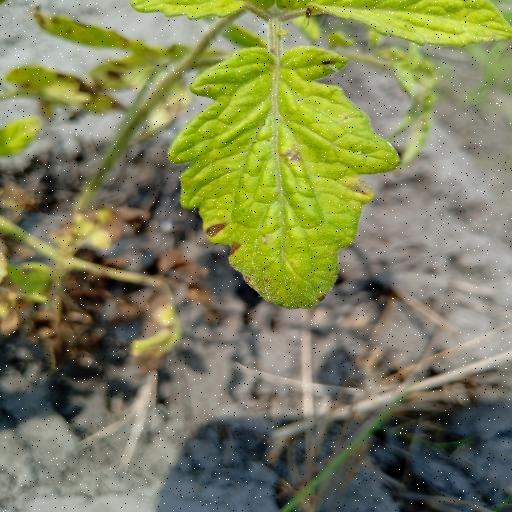Tomato_Brown_Spots: (163, 44, 416, 312)
